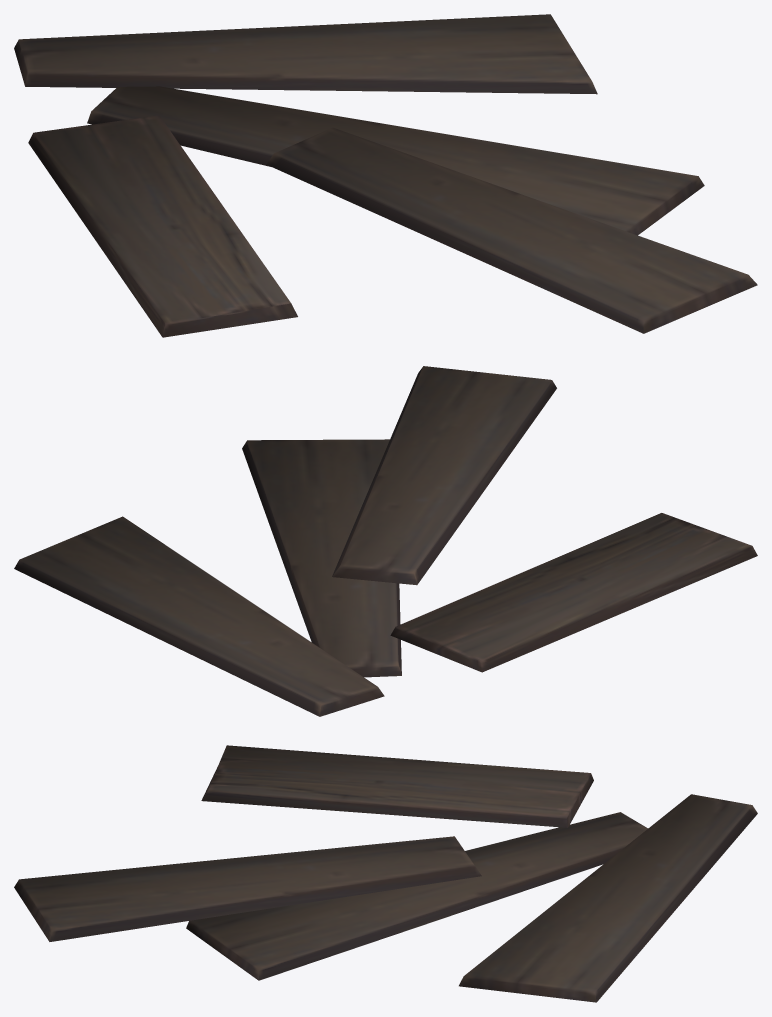
The model's file is Area_15_18.fbx.
The picture shows the model from 3 angles, top to bottom: view 1: azimuth 30°, elevation 25°; view 2: azimuth 150°, elevation 25°; view 3: azimuth 270°, elevation 25°; orthographic projection. The views are drawn at different scales.
Visible parts, largest first — view 1: Area_15_18; view 2: Area_15_18; view 3: Area_15_18.
Boxes of the visible parts, <box> form: Area_15_18: <box>14,14,757,337</box>; Area_15_18: <box>14,366,757,716</box>; Area_15_18: <box>14,745,757,1002</box>.
Size of the model in its own units: 244 by 8.64 by 307.
